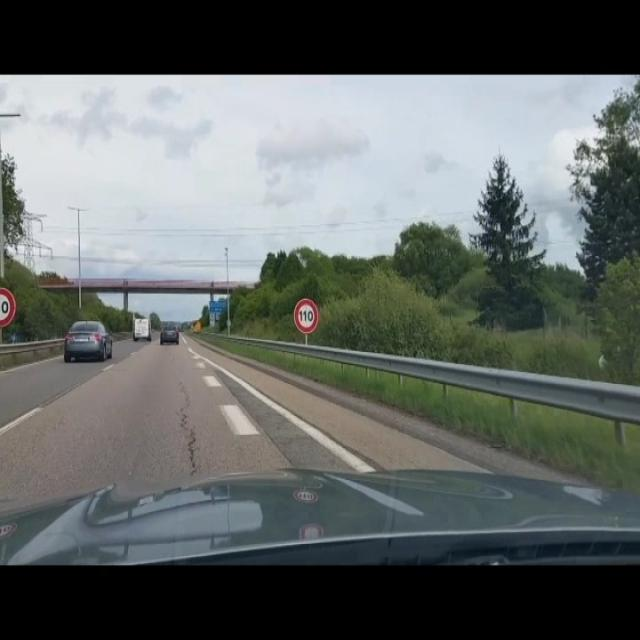speed_110: (293, 298, 319, 335)
